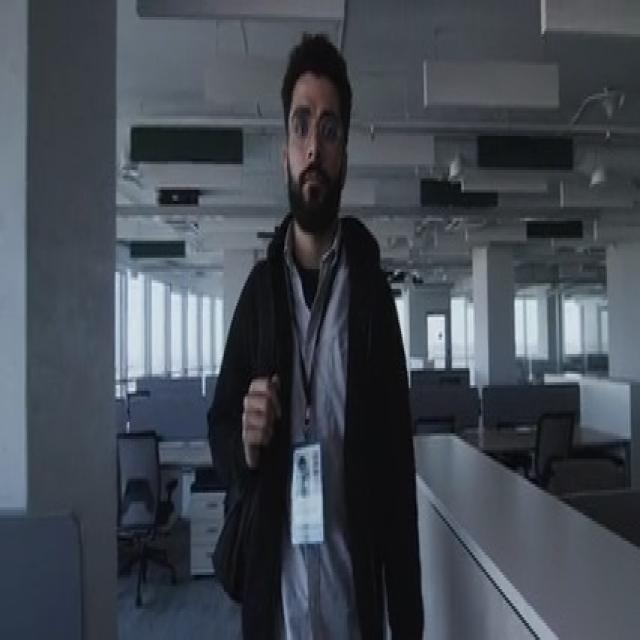Jacket_Wearer: (209, 206, 422, 624)
Person: (204, 22, 422, 640)
